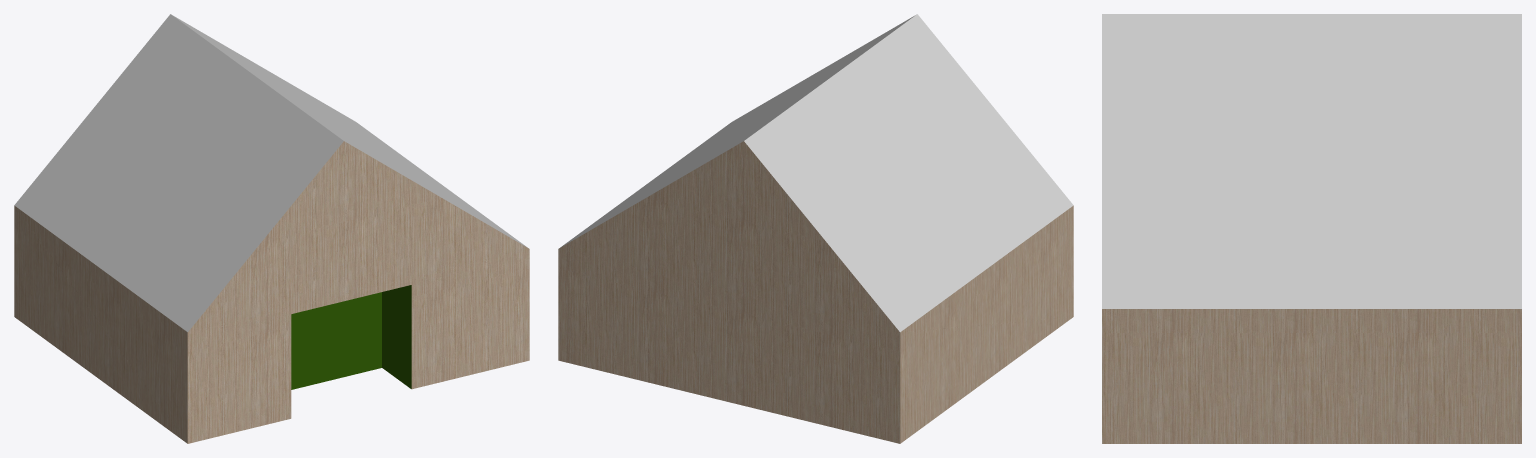
Rendered from house01.dae.
The picture shows the model from 3 angles, left to right: view 1: azimuth 30°, elevation 25°; view 2: azimuth 150°, elevation 25°; view 3: azimuth 270°, elevation 25°; orthographic projection. The views are drawn at different scales.
Parts seen in each view (by area): view 1: SketchUp (×3); view 2: SketchUp (×2); view 3: SketchUp (×2).
Part boxes in pixels (x1=…): SketchUp (×3): x1=14, y1=14, x2=529, y2=443; SketchUp (×2): x1=558, y1=14, x2=1073, y2=443; SketchUp (×2): x1=1102, y1=14, x2=1521, y2=443.
Bounding box in the file's own units: 140 × 123 × 104.
